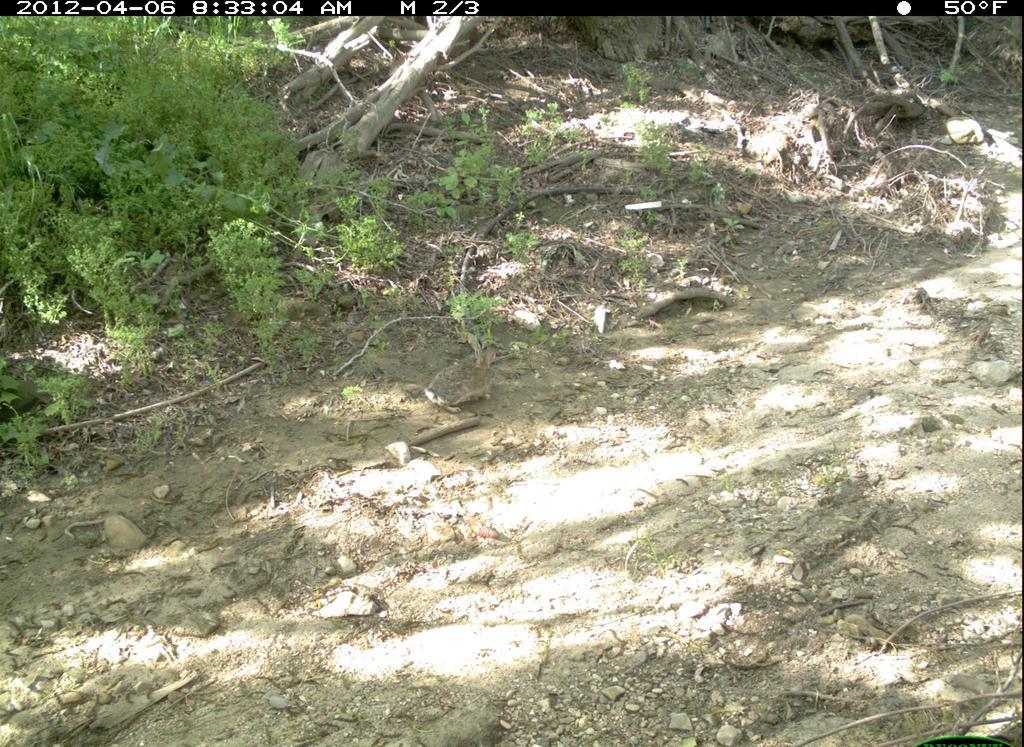rabbit: (419, 331, 509, 423)
